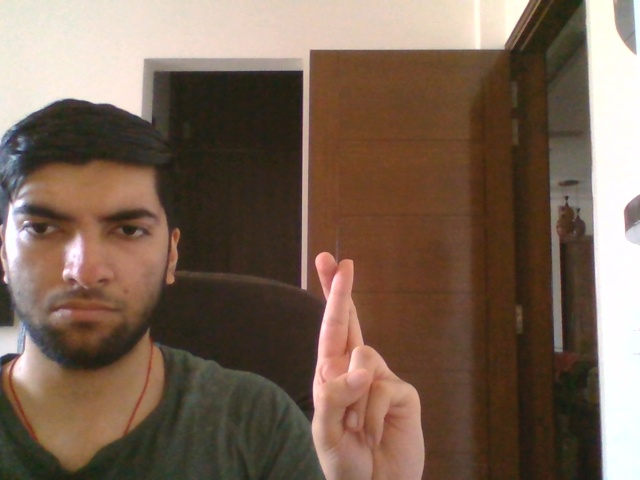LetterR: (309, 248, 431, 479)
